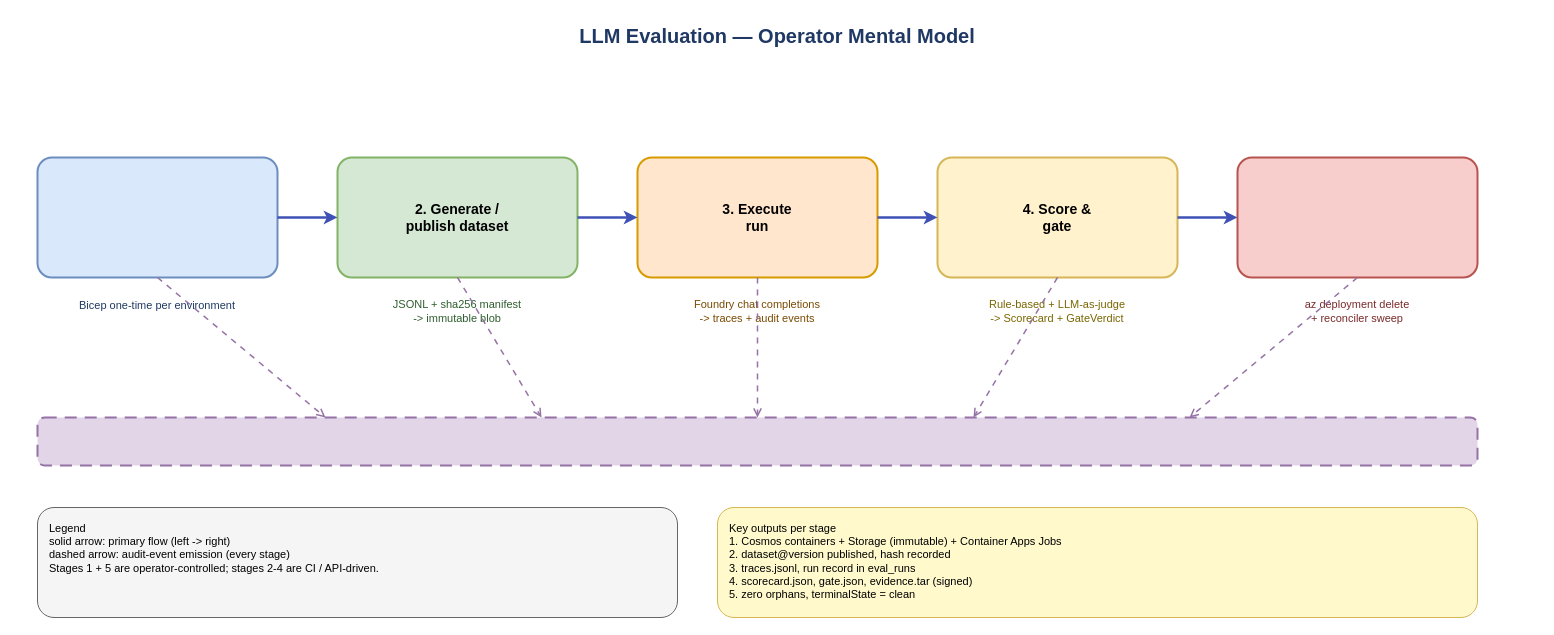
The diagram is 1554 pixels wide and 635 high, and some of its shapes have lost their labels. Here are the shapes that lost their labels. From the top down, the centre of each, then its label:
the point at 157,217: 1. Provision platform infra
the point at 1357,217: 5. Deprovision
the point at 757,441: Every stage emits an audit_event -> eval_audit (Cosmos) + Application Insights
